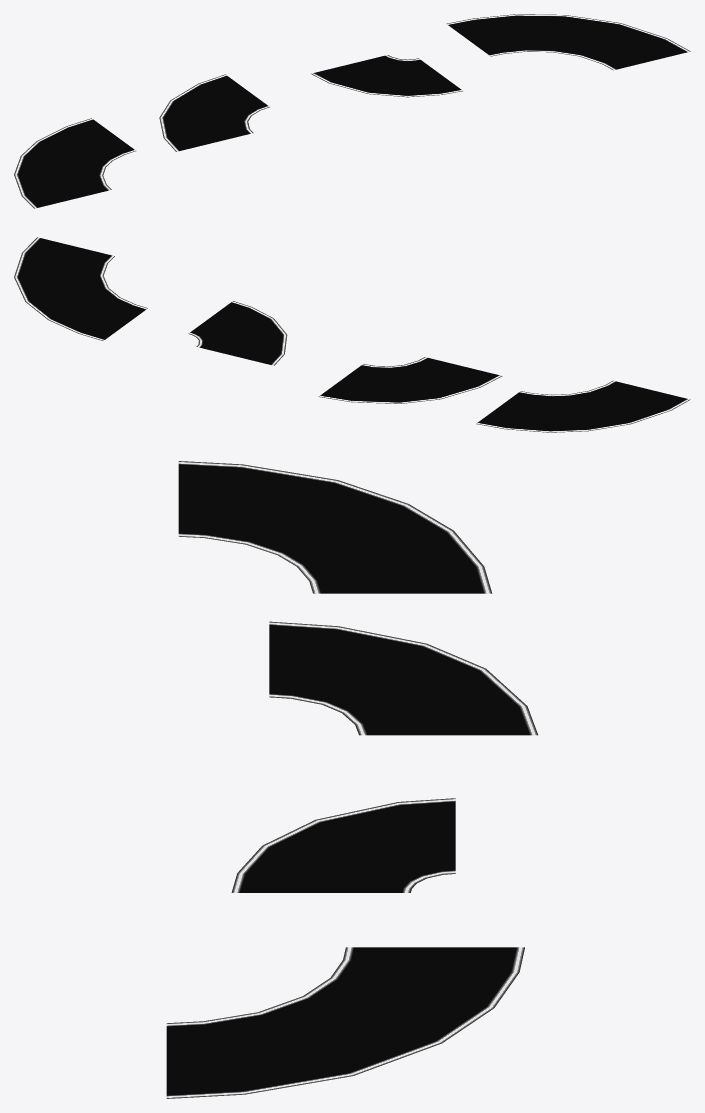
The model's file is Line 20w 25-35R LOWPOLY.FBX.
3 renders of one model, top to bottom at view 1: azimuth 30°, elevation 25°; view 2: azimuth 150°, elevation 25°; view 3: azimuth 270°, elevation 25°, orthographic. The views are drawn at different scales.
Visible parts, largest first — view 1: 20W 40R 90° LP, 20W 35R 90° LP, 20W 30R 90° LP, 20w 25R 90° LP; view 2: 20W 40R 90° LP, 20W 35R 90° LP, 20W 30R 90° LP, 20w 25R 90° LP; view 3: 20W 40R 90° LP, 20W 35R 90° LP, 20W 30R 90° LP, 20w 25R 90° LP.
Boxes of the visible parts, x1,y1,x2,y2 form: 20W 40R 90° LP: (446, 14, 690, 70); 20W 35R 90° LP: (14, 118, 135, 208); 20W 30R 90° LP: (159, 74, 269, 151); 20w 25R 90° LP: (311, 55, 462, 97); 20W 40R 90° LP: (14, 237, 147, 340); 20W 35R 90° LP: (476, 380, 690, 432); 20W 30R 90° LP: (318, 357, 502, 403); 20w 25R 90° LP: (188, 301, 287, 365); 20W 40R 90° LP: (166, 947, 524, 1098); 20W 35R 90° LP: (178, 461, 492, 593); 20W 30R 90° LP: (269, 621, 537, 735); 20w 25R 90° LP: (231, 798, 455, 892).
Size of the model in its own units: 16841 by 0.00161 by 4148.
